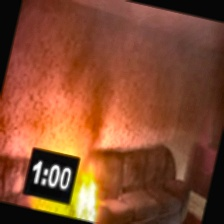fire: (70, 170, 105, 221)
